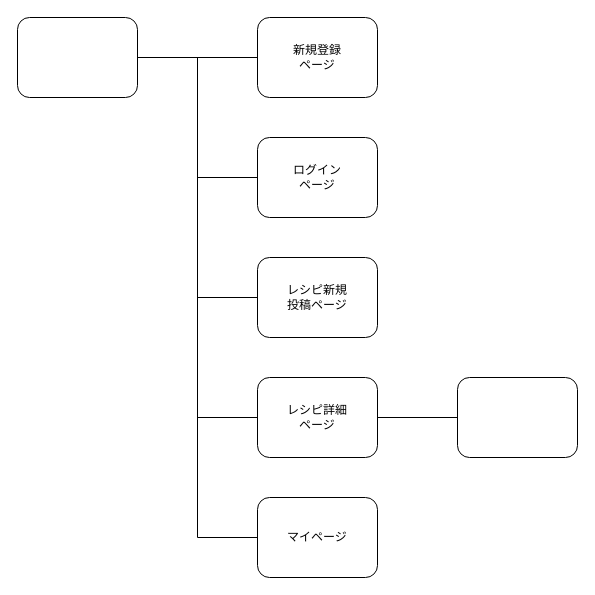
This 595x595 diagram has some shape labels left out. Each missing label, with the centre of its shape:
"トップページ レシピ一覧" goes at (x=77, y=57).
"レシピ編集 ページ" goes at (x=517, y=417).
